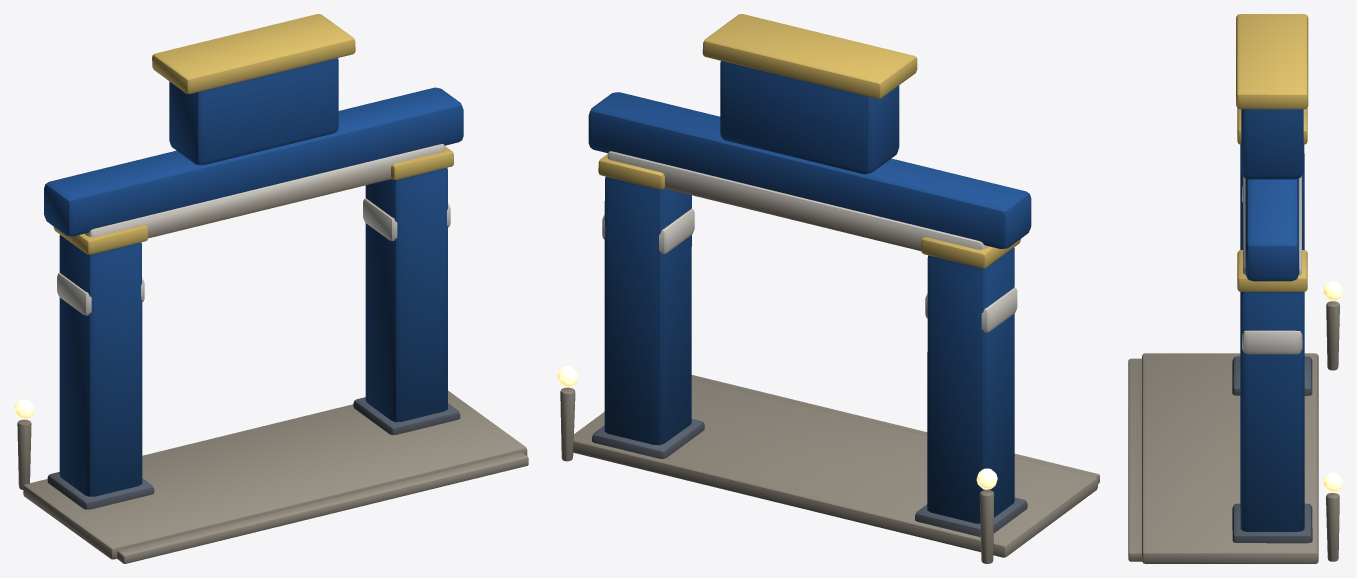
3 renders of one model, left to right at view 1: azimuth 30°, elevation 25°; view 2: azimuth 150°, elevation 25°; view 3: azimuth 270°, elevation 25°, orthographic. The views are drawn at different scales.
Parts seen in each view (by area): view 1: gate_d192a054; view 2: gate_d192a054; view 3: gate_d192a054.
Boxes of the visible parts, <box> form: gate_d192a054: <box>14,14,528,563</box>; gate_d192a054: <box>557,14,1099,563</box>; gate_d192a054: <box>1128,14,1342,563</box>.
Bounding box in the file's own units: 5.65 × 5.4 × 2.54.
